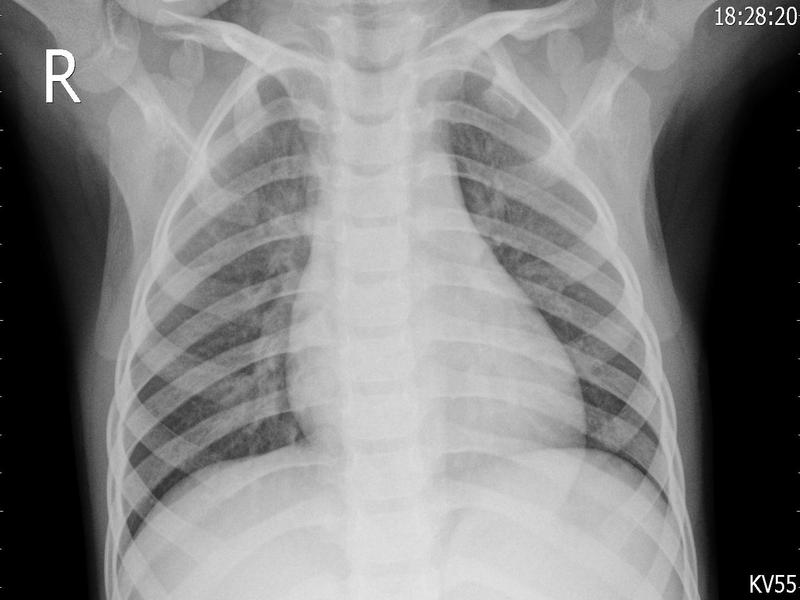PNEUMONIA: (431, 133, 613, 342), (194, 151, 326, 430), (579, 353, 679, 480)
